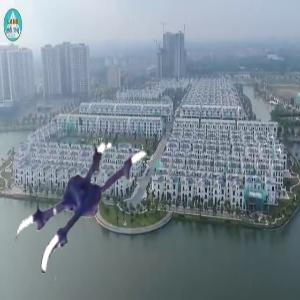drone: (13, 135, 169, 291)
